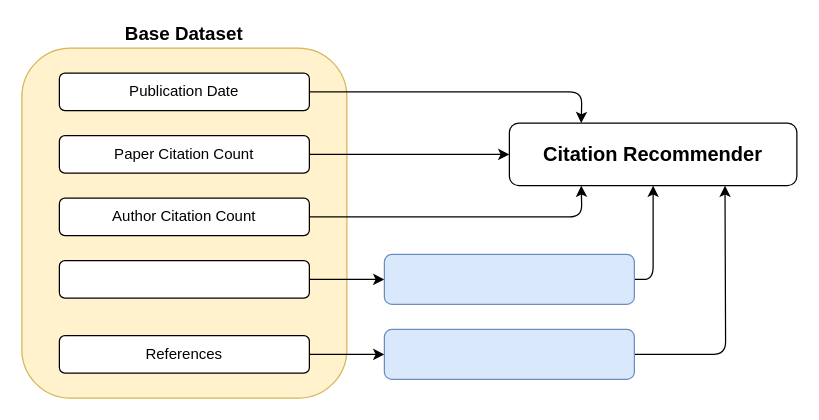
The diagram is 819 pixels wide and 420 high, and some of its shapes have lost their labels. The shapes that lost their labels are listed below. From the top down, each one's centre as x and y in pixels, then its label:
At [183,278]: "Citations".
At [508,278]: "Co-Citation Analysis".
At [508,353]: "Bibliographic Coupling".
